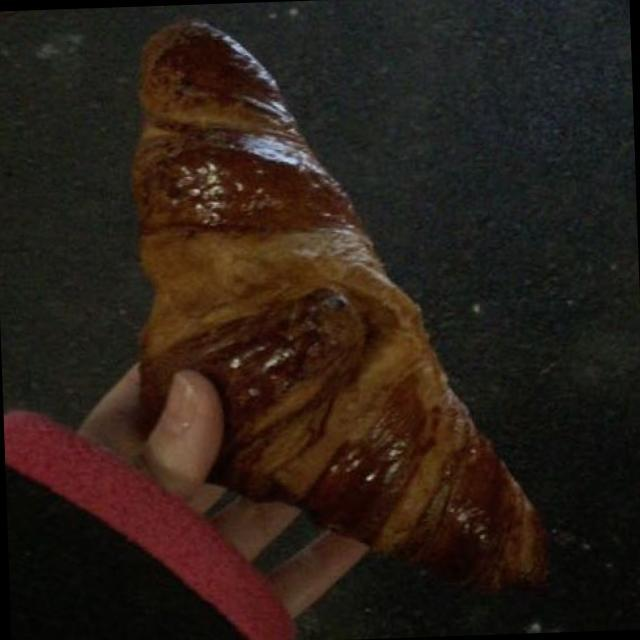Croissant: (118, 4, 562, 617)
